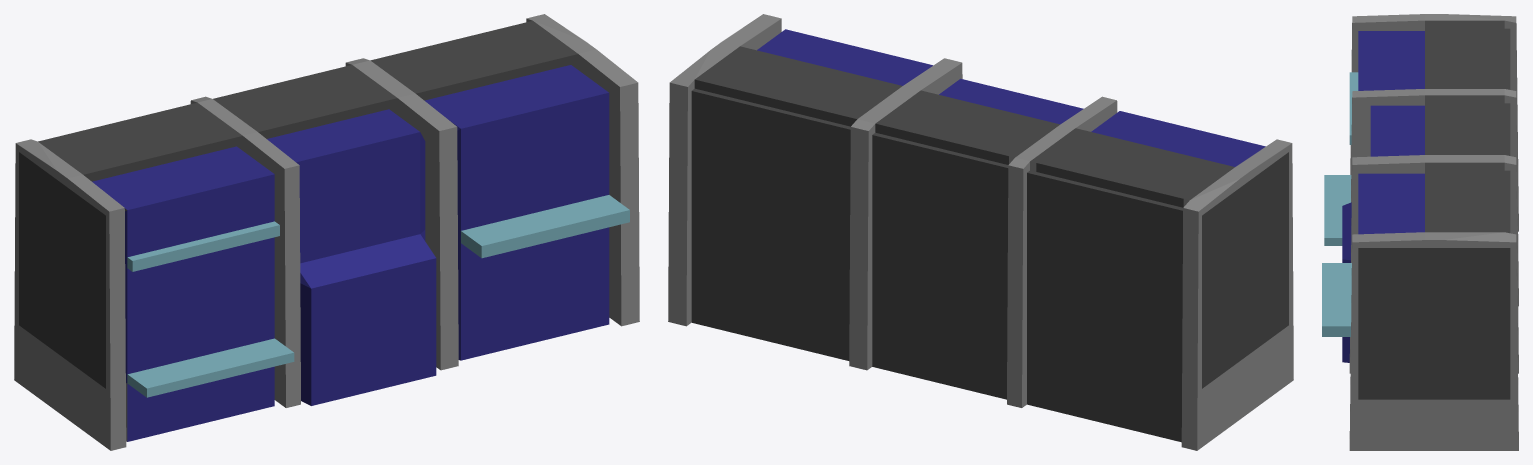
The model's file is Server.glb.
3 renders of one model, left to right at view 1: azimuth 30°, elevation 25°; view 2: azimuth 150°, elevation 25°; view 3: azimuth 270°, elevation 25°, orthographic. The views are drawn at different scales.
Visible parts, largest first — view 1: Servers; view 2: Servers; view 3: Servers.
Boxes of the visible parts, x1,y1,x2,y2 form: Servers: (14, 14, 639, 450); Servers: (668, 14, 1293, 450); Servers: (1322, 14, 1518, 450).
Size of the model in its own units: 3 by 1.31 by 1.1.
